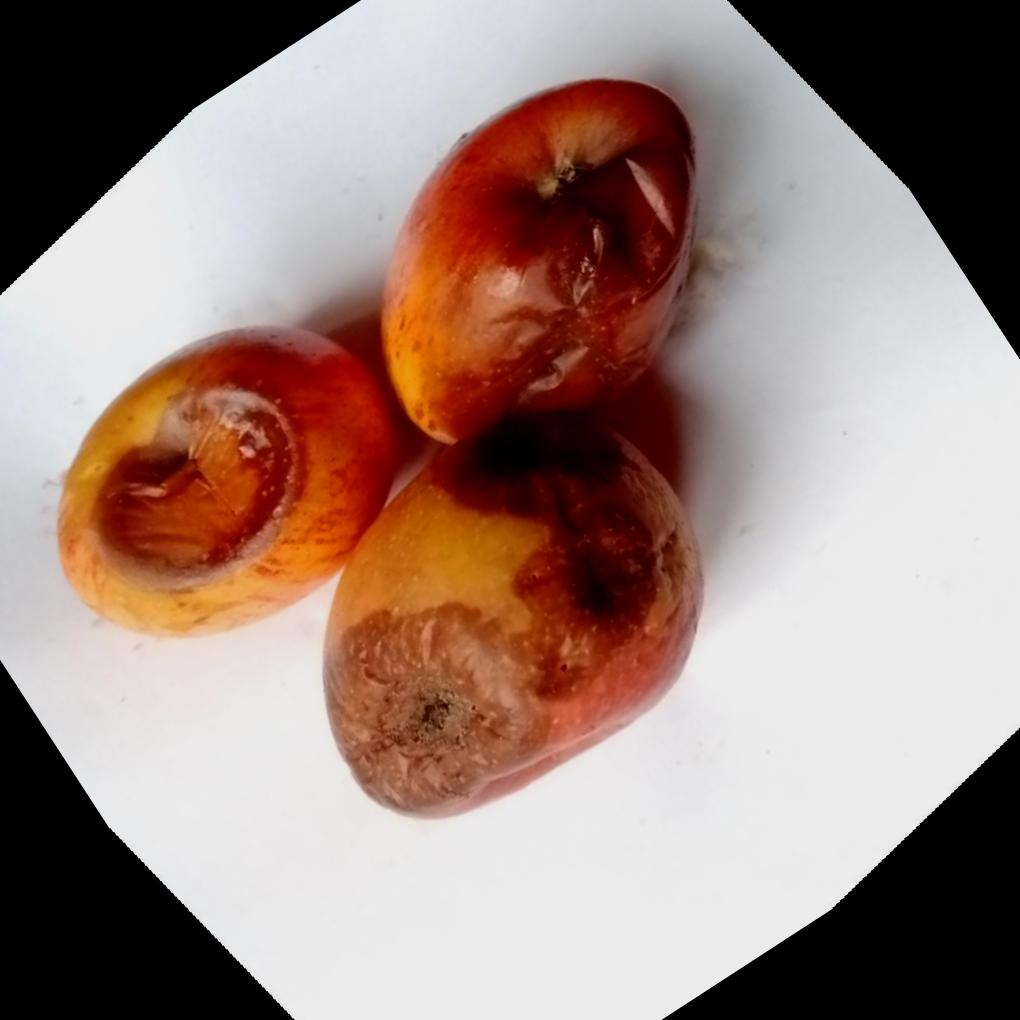FreshOrange: (52, 75, 703, 819)
